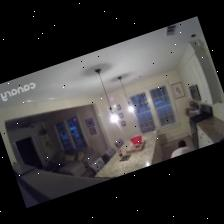person: (171, 140, 190, 157)
